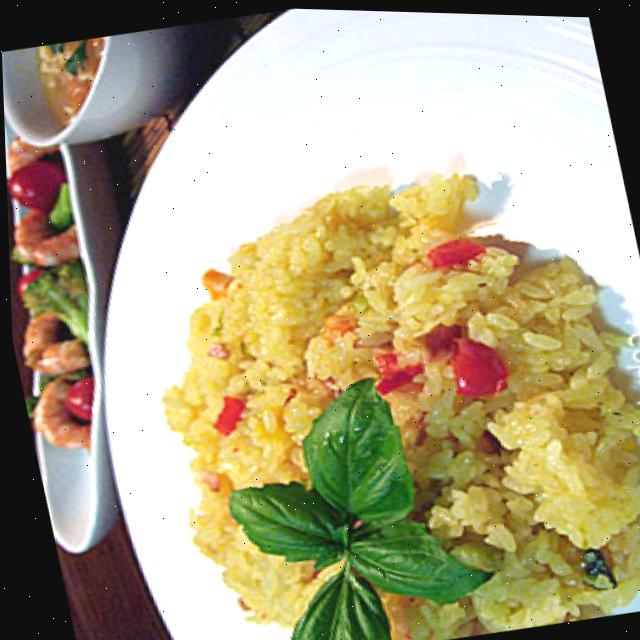米饭主食: (82, 124, 640, 640)
